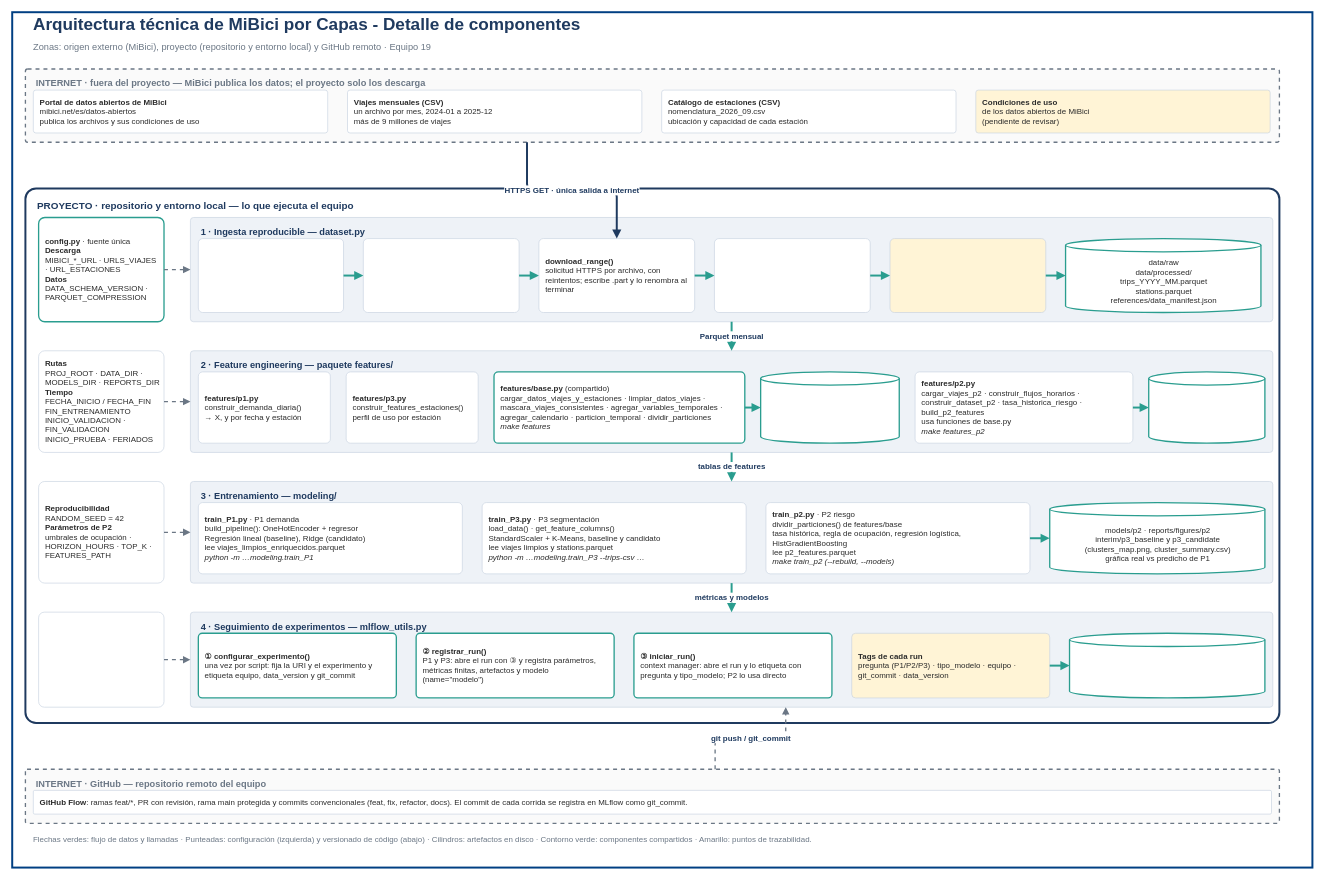
The diagram is 1325 pixels wide and 880 high, and some of its shapes have lost their labels. Here are the shapes that lost their labels. From the top down, the centre of each, then its label:
At pixel 271 275: "make data python -m …dataset --inicio / --fin".
At pixel 441 275: "resolve_download_urls() URL de cada mes; respaldo en URLS_VIAJES de config.py".
At pixel 792 275: "process_range() CSV → Parquet mensual, esquema versionado y compresión snappy".
At pixel 967 275: "generate_manifest() SHA-256 por archivo; calcular_version_datos() → data_version".
At pixel 830 407: "interim/ viajes_limpios_ enriquecidos .parquet".
At pixel 1206 407: "processed/ p2_features .parquet".
At pixel 101 659: "MLflow MLFLOW_EXPERIMENT_NAME MLFLOW_TRACKING_URI MLFLOW_ARTIFACT_LOCATION".
At pixel 1167 665: "mlflow.db (sqlite) mlartifacts/ experimento mibici-equipo19 make mlflow-ui".
